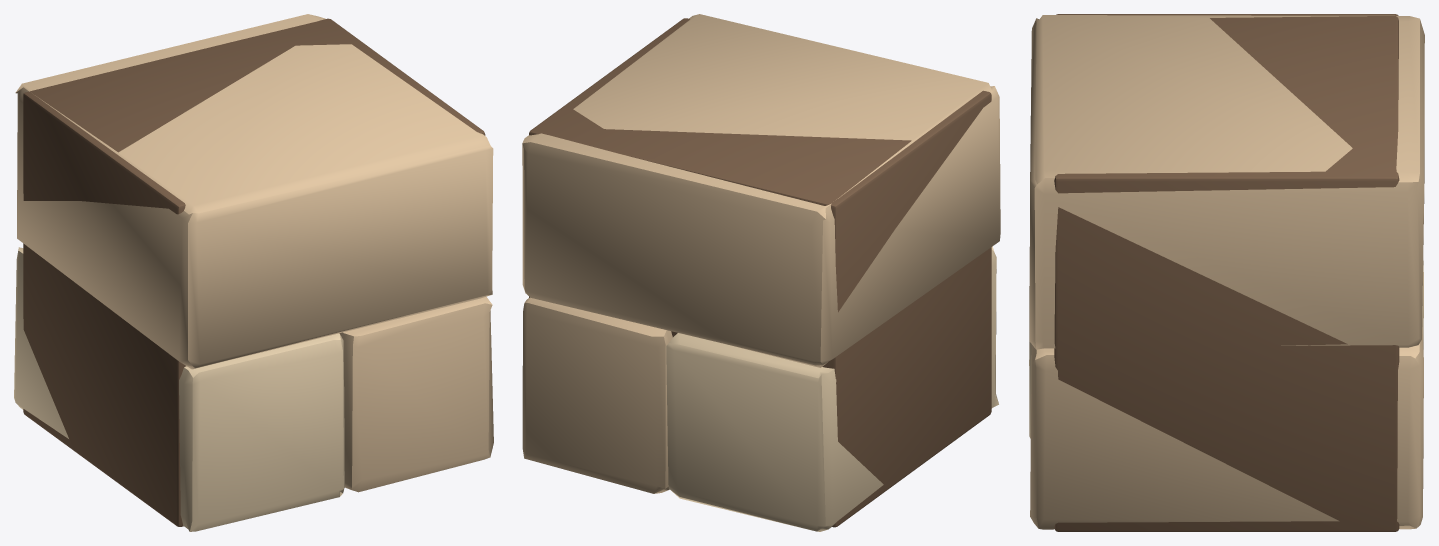
File: tile_stone_b.glb
3 views of the same model, side by side, from view 1: azimuth 30°, elevation 25°; view 2: azimuth 150°, elevation 25°; view 3: azimuth 270°, elevation 25° (orthographic). The views are drawn at different scales.
Parts seen in each view (by area): view 1: tile_stone_b; view 2: tile_stone_b; view 3: tile_stone_b.
Part boxes in pixels (x1,y1,x2,y2): tile_stone_b: (14, 14, 493, 531); tile_stone_b: (522, 14, 1000, 531); tile_stone_b: (1029, 14, 1424, 531).
Bounding box in the file's own units: 1.02 × 1.02 × 1.01.
